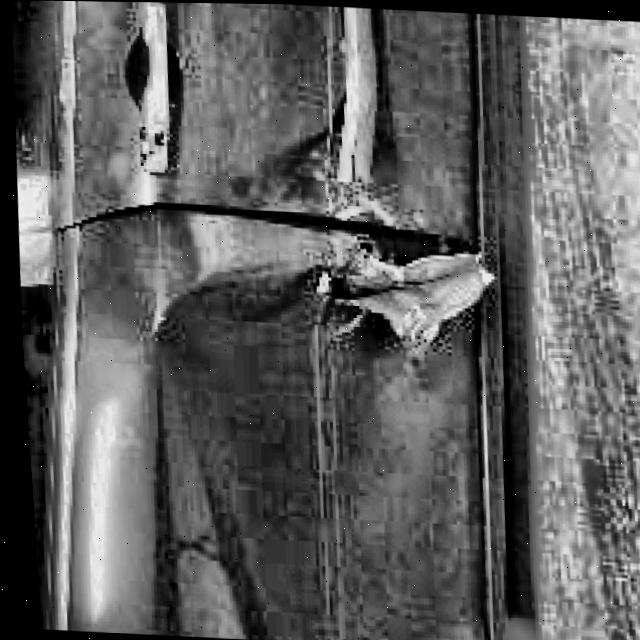door_dent: (311, 224, 507, 366), (228, 120, 350, 239)
door_scratch: (308, 5, 390, 210)
